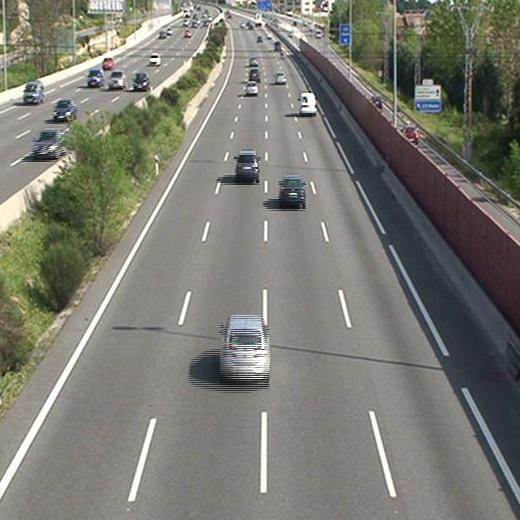car: (217, 317, 271, 381), (279, 174, 309, 207), (233, 150, 261, 180), (245, 81, 258, 96), (247, 67, 260, 81), (273, 71, 285, 85), (248, 55, 260, 66)
van: (298, 91, 318, 116)
